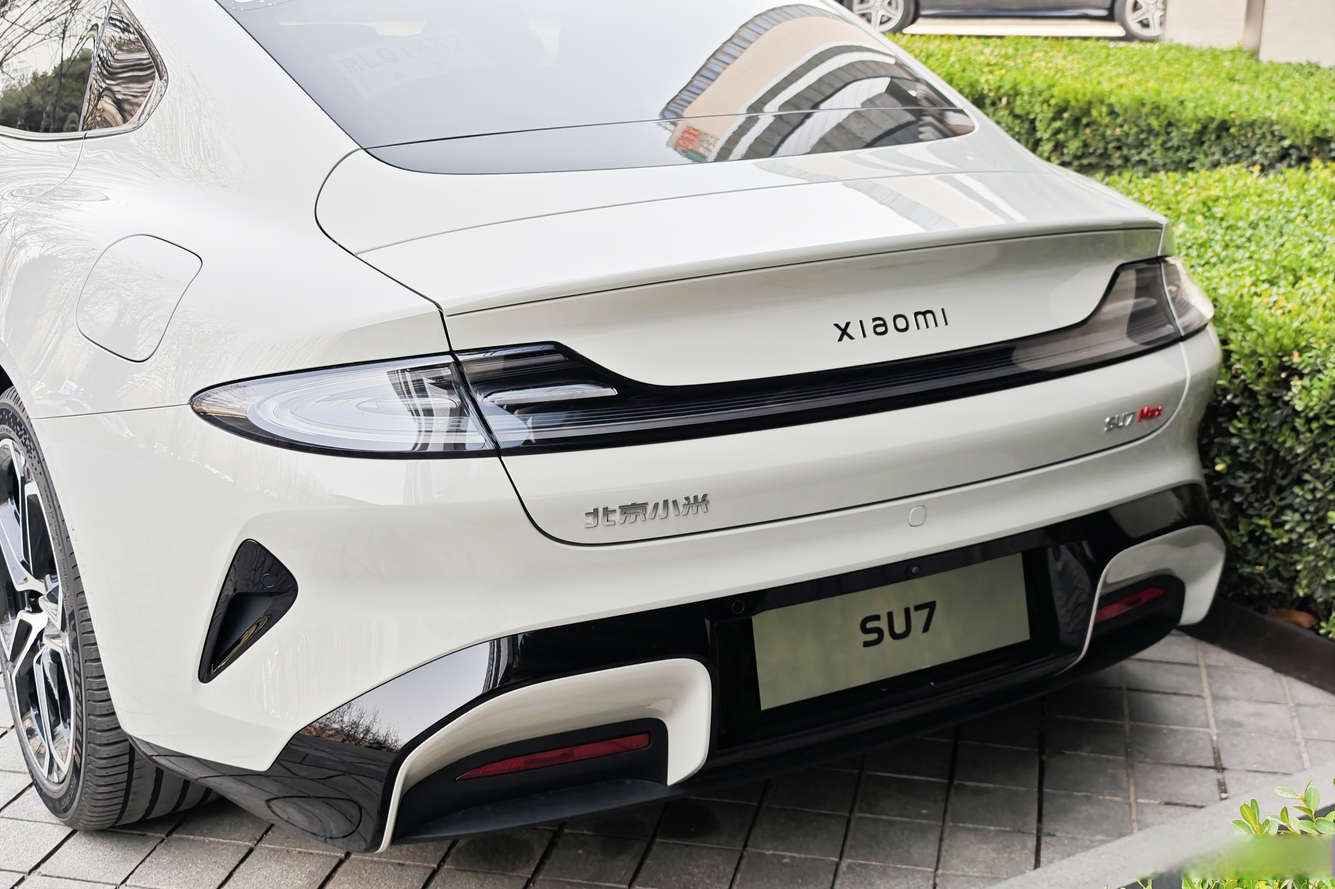su7: (0, 0, 1258, 840)
